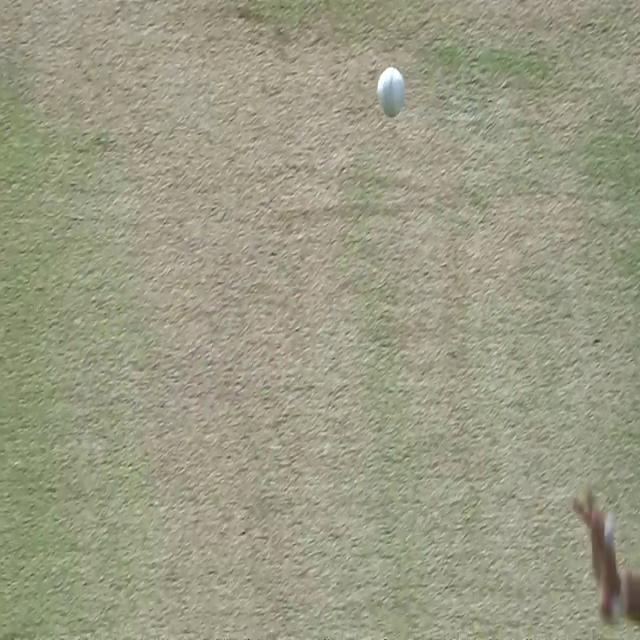ball: (376, 66, 408, 117)
